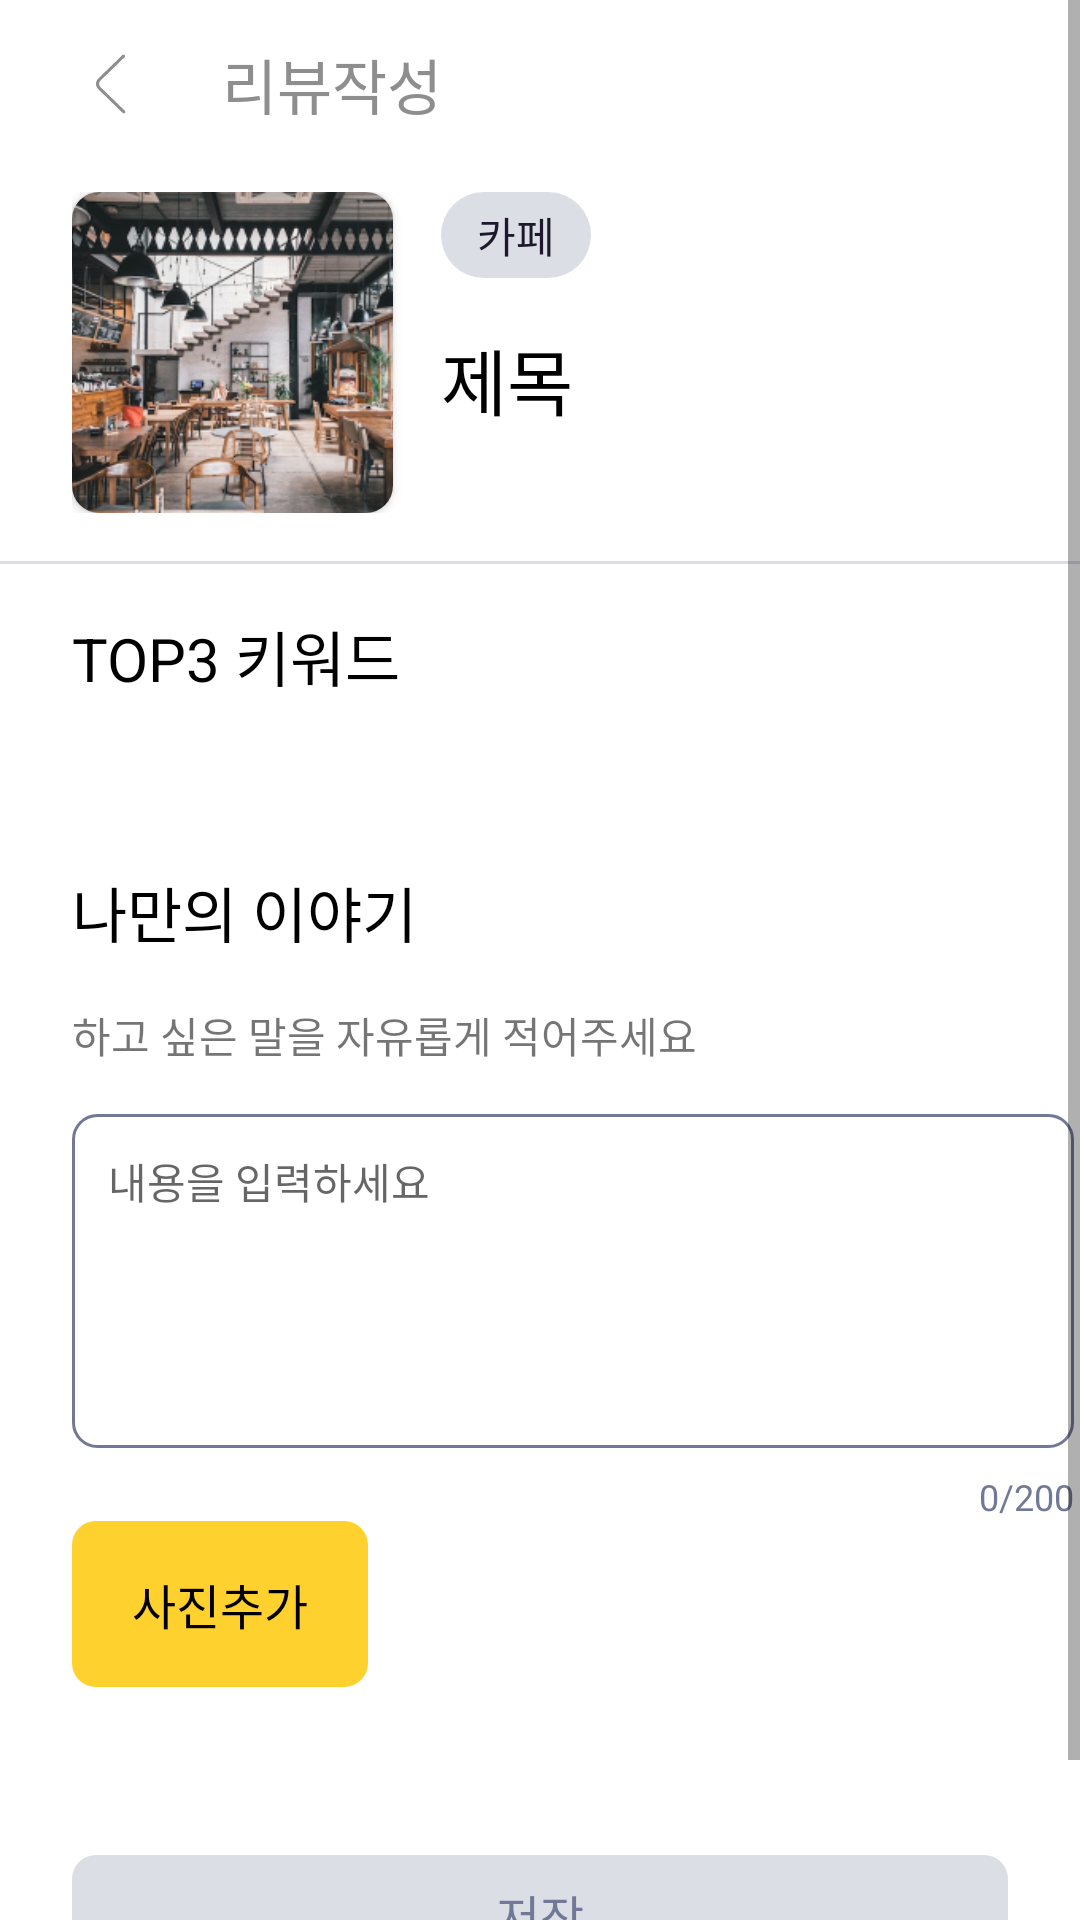

Screen size 1080 × 1920. Icon name, then its center in pixels as (x,y):
backbutton: (110,84)
place: (232,352)
